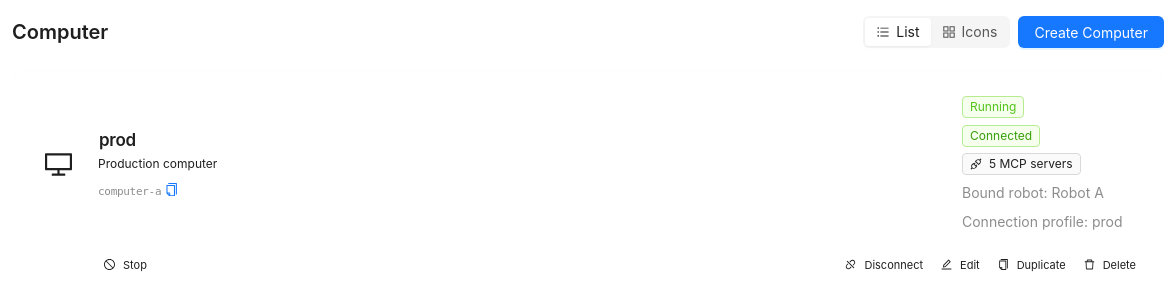
Scenario: Computer › deletes a Computer from the list actions after confirmation
Expected: the text "computer-a" is shown, [98, 185, 161, 198]
Click the button "Delete".
click(1110, 265)  # box [1078, 251, 1142, 279]
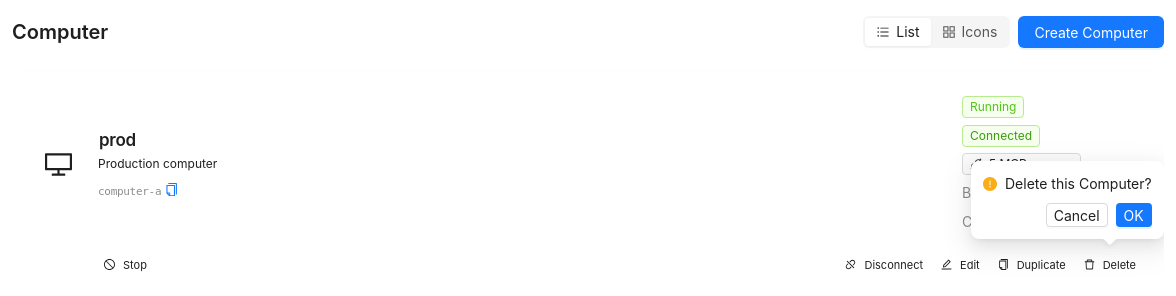
Now the text "Delete this Computer?" is shown, box [1005, 175, 1152, 192]
Click the button "OK".
click(1134, 215)  # box [1116, 203, 1152, 227]
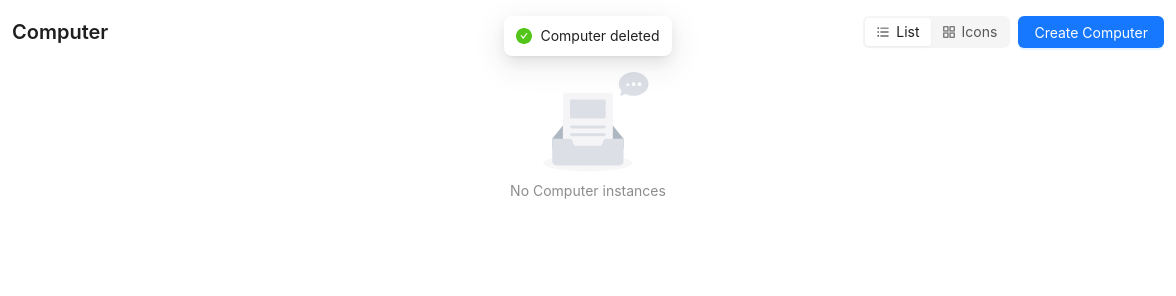
Now the text "computer-a" is gone
